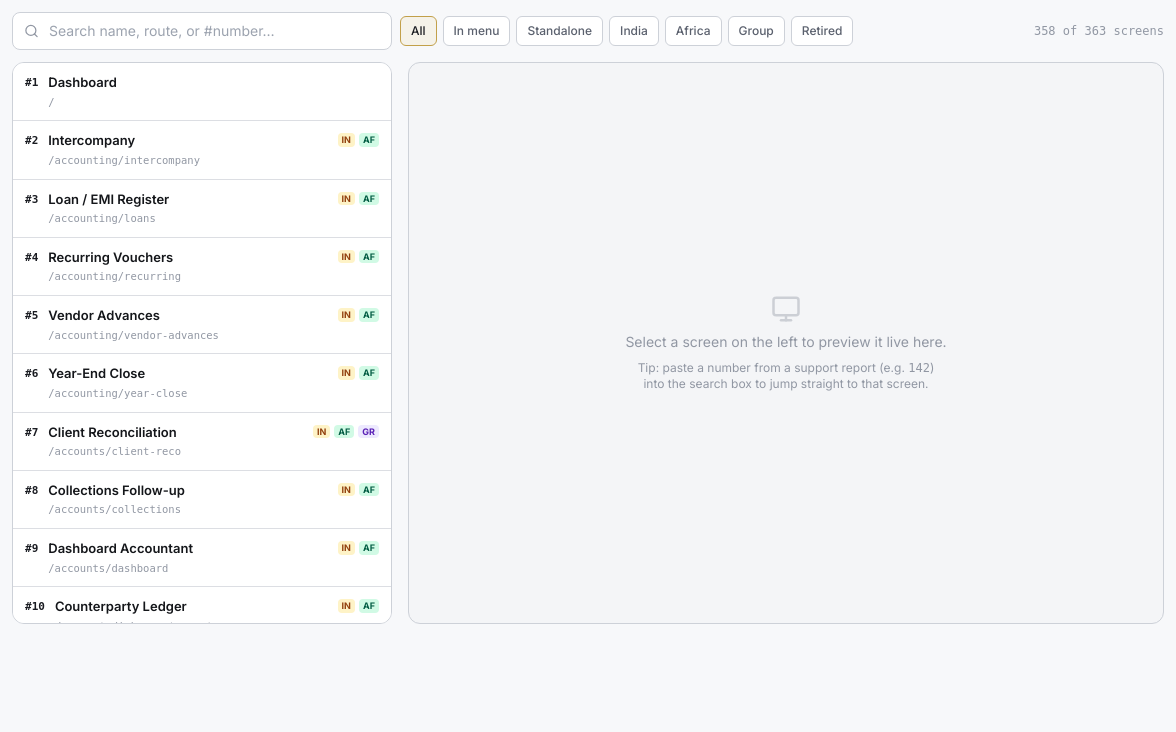
Test case: ScreenDirectory › number search narrows the list to that one screen
Type "210" into the field named "Search screens" at (202, 31), box [12,12,392,50]
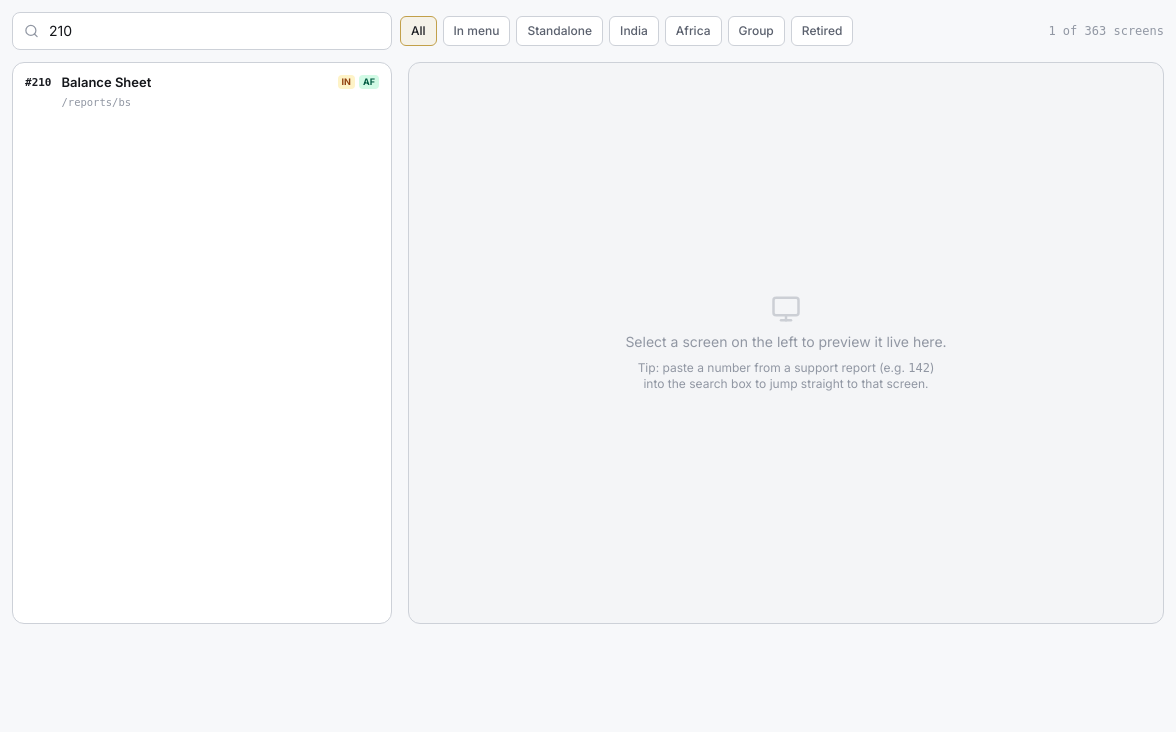
Now the text "/reports/bs" is shown, box [62,96,131,108]
